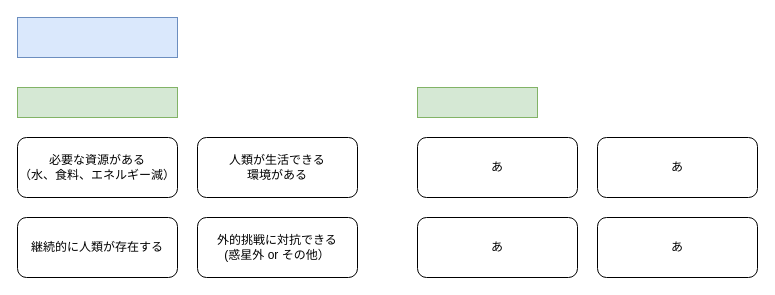
Some shapes in this 775 by 295 pixel diagram are drawn without their labels. The shapes that lost their labels are listed below. From the top down, each one's box as (x1, y1, x2, y2) in pixels, then its label:
(16, 16, 178, 58): 長期思考 ～西暦3000年の人類～
(16, 86, 178, 118): a) 必要条件
(416, 86, 538, 118): b) 十分条件
